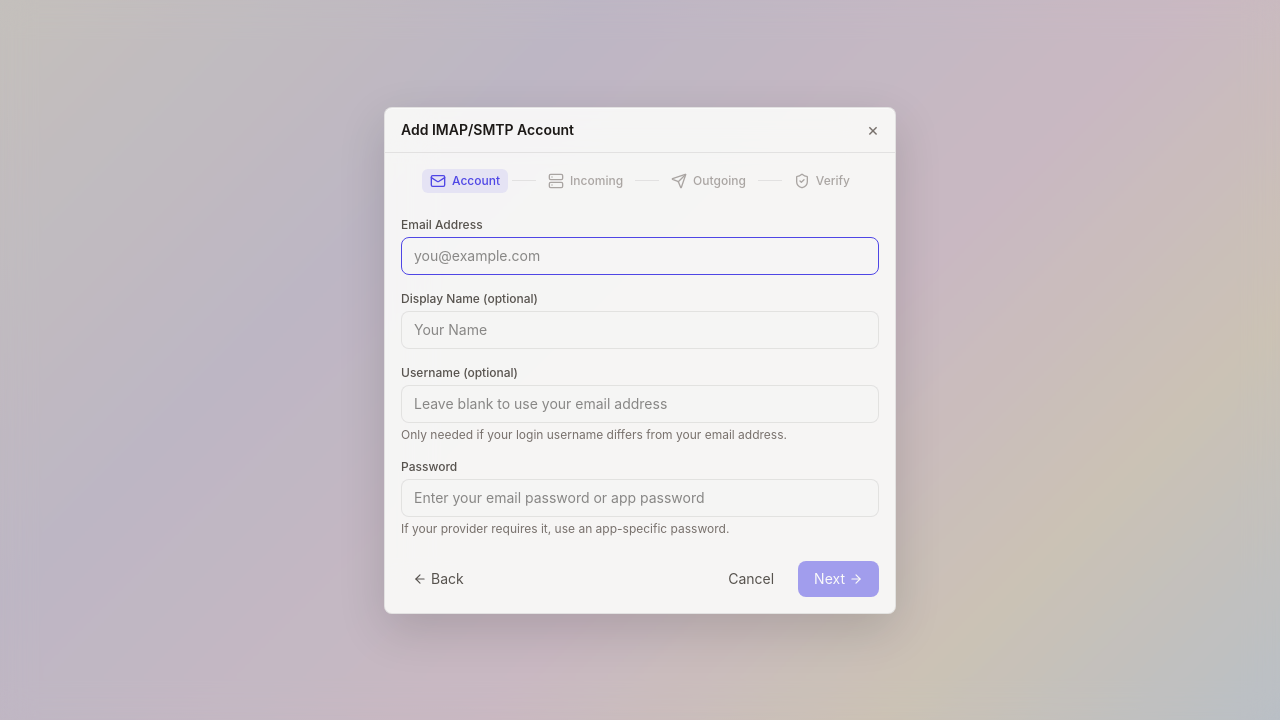
Test: AddImapAccount › fills server settings from the domain's autoconfig
In the field with placeholder "you@example.com": [640, 256] box top-left (401, 236), bottom-right (879, 274), type "me@blankman.tv"
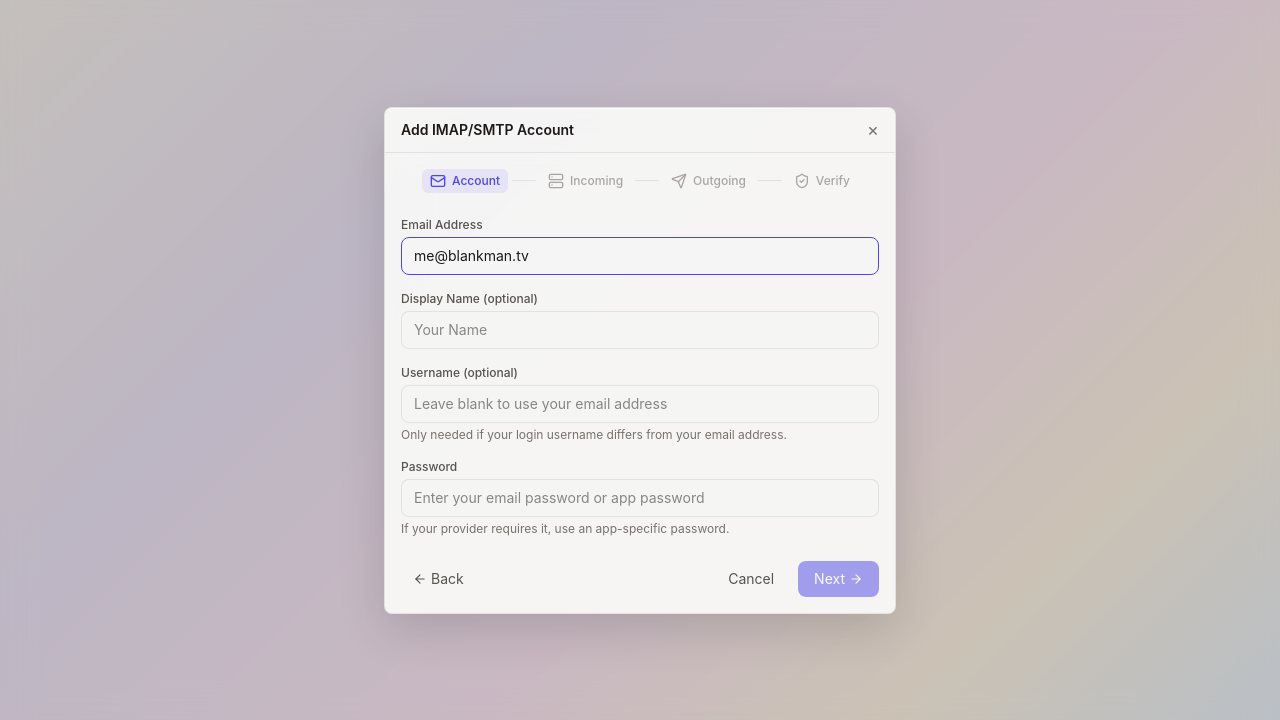
Leave the field with placeholder "you@example.com", box top-left (401, 236), bottom-right (879, 274)
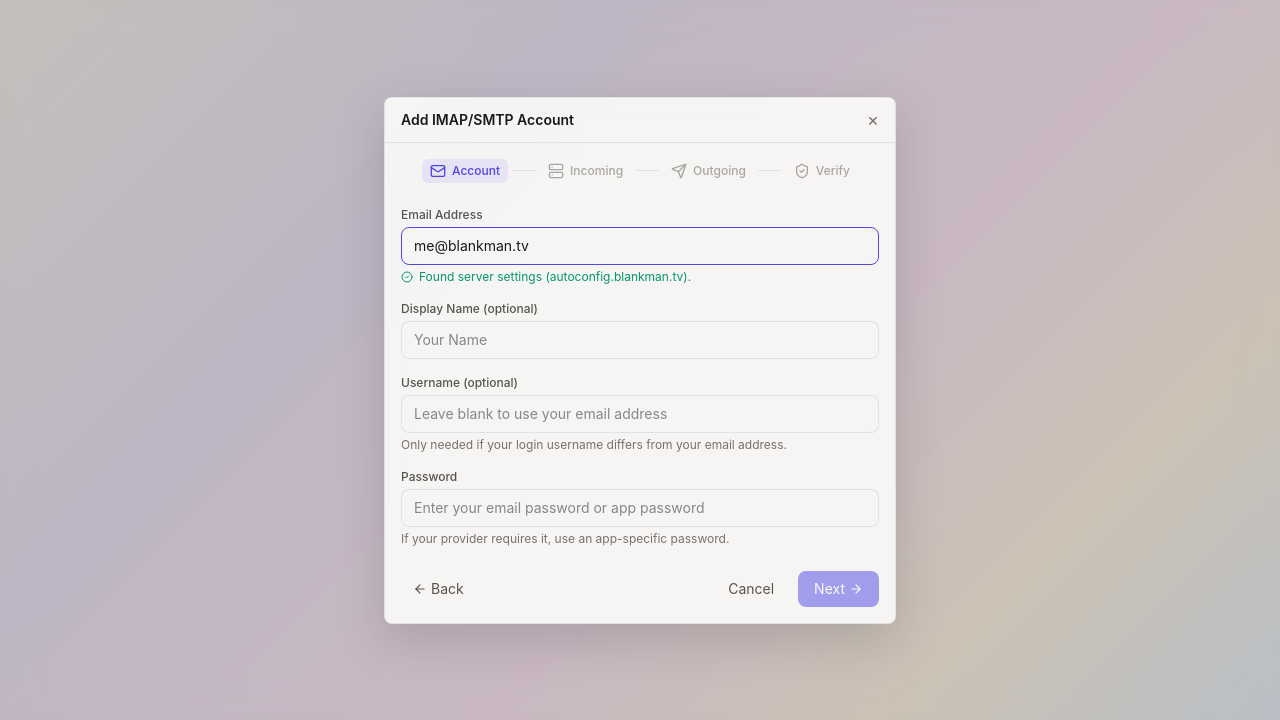
Expected: the text "Found server settings (autoconfig.blankman.tv)." is shown, top-left (401, 268), bottom-right (691, 284)
In the password field with placeholder "Enter your email password or app password": [640, 508] box top-left (401, 488), bottom-right (879, 526), type "pw"
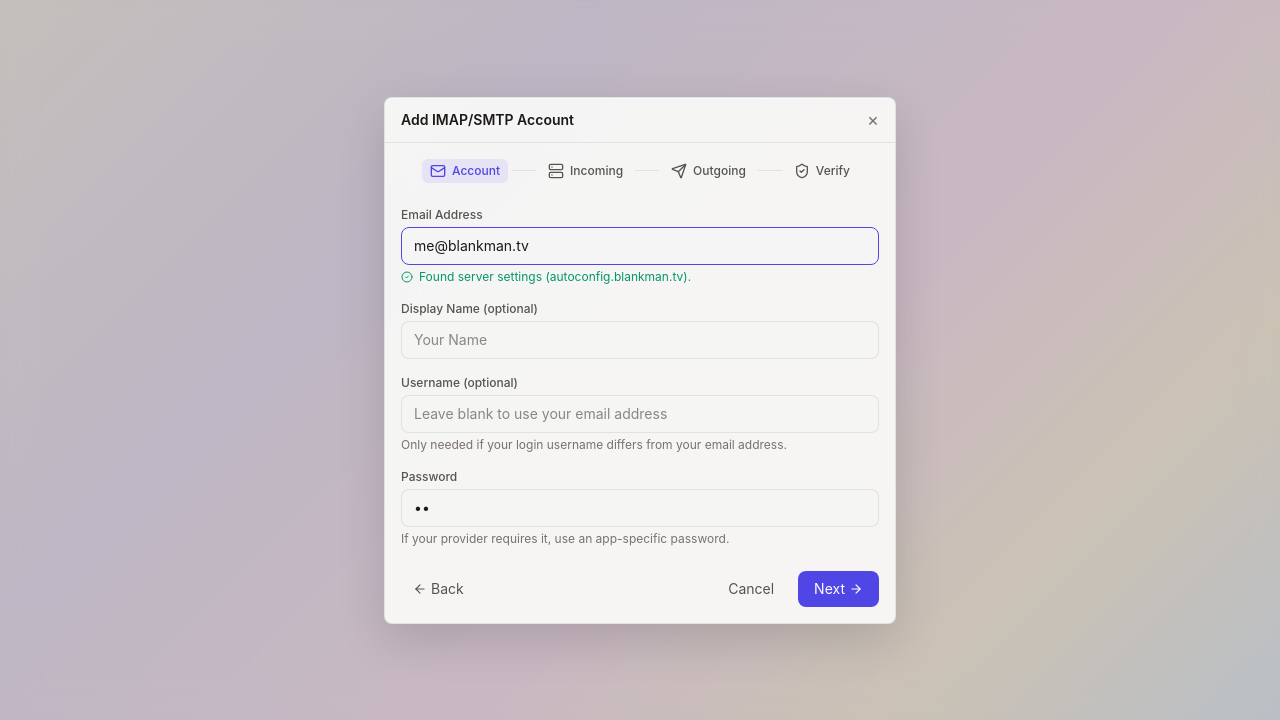
Click the button "Outgoing": [708, 170] box top-left (663, 158), bottom-right (754, 182)
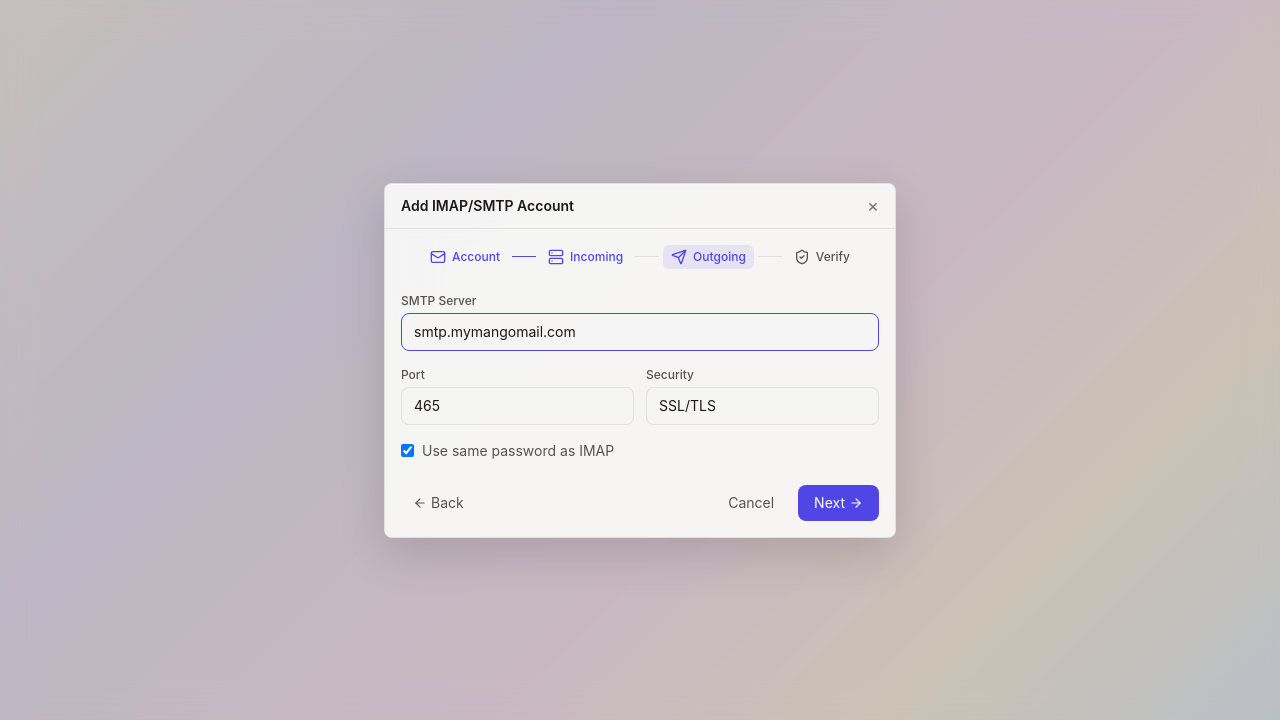
Expected: the field showing "smtp.mymangomail.com" is shown, top-left (401, 312), bottom-right (879, 350)
Expected: the number field showing "465" is shown, top-left (401, 386), bottom-right (634, 424)
